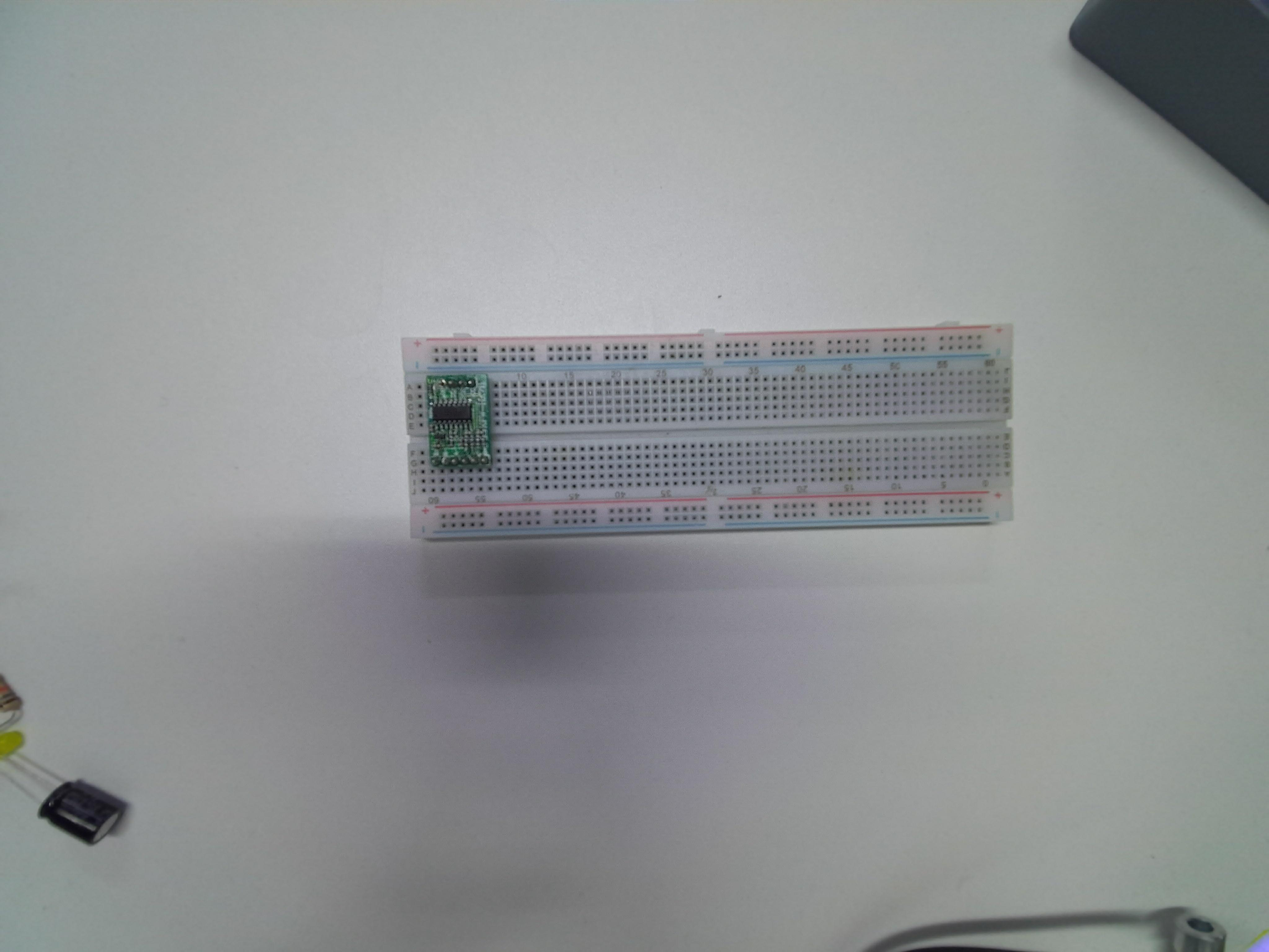base: (402, 322, 1019, 545)
capacitor: (31, 777, 134, 853)
green-board: (422, 367, 494, 473), (422, 368, 494, 473)
resistor-big: (3, 679, 27, 718)
yellow-led: (0, 727, 30, 769)
